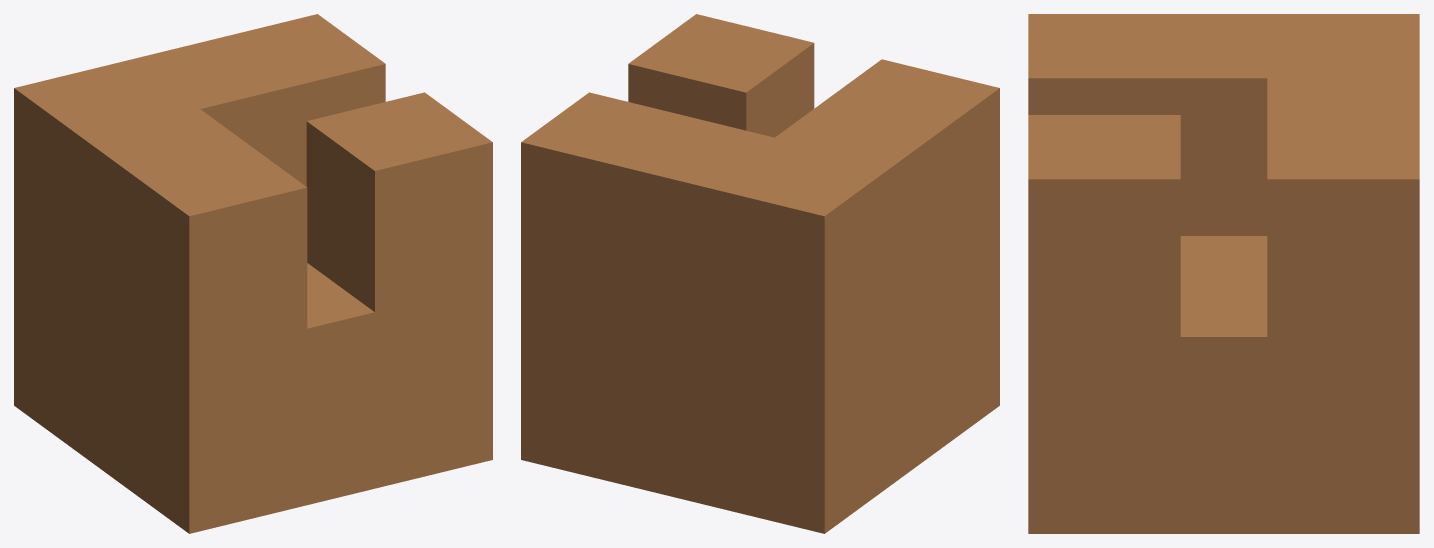
Rendered from Thick_Corner_Model.fbx.
3 views of the same model, side by side, from view 1: azimuth 30°, elevation 25°; view 2: azimuth 150°, elevation 25°; view 3: azimuth 270°, elevation 25° (orthographic). The views are drawn at different scales.
Visible parts, largest first — view 1: Cube; view 2: Cube; view 3: Cube.
Part boxes in pixels (bbox=[...]): Cube: bbox=[14, 14, 492, 533]; Cube: bbox=[521, 14, 999, 533]; Cube: bbox=[1028, 14, 1419, 533].
Bounding box in the file's own units: 100 × 100 × 100.
